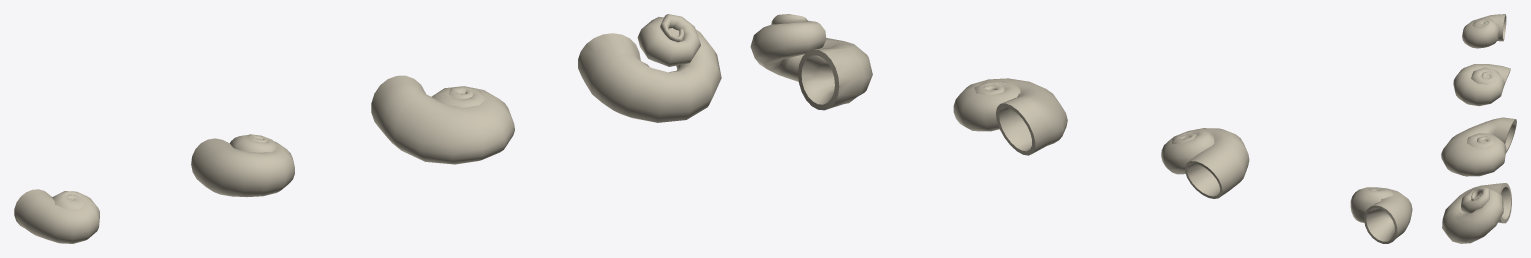
File: coral_shells_A.fbx
3 views of the same model, side by side, from view 1: azimuth 30°, elevation 25°; view 2: azimuth 150°, elevation 25°; view 3: azimuth 270°, elevation 25° (orthographic). The views are drawn at different scales.
Parts seen in each view (by area): view 1: coral_shells_A_A, coral_shells_A_B, coral_shells_A_C, coral_shells_A_D; view 2: coral_shells_A_A, coral_shells_A_B, coral_shells_A_C, coral_shells_A_D; view 3: coral_shells_A_B, coral_shells_A_A, coral_shells_A_C, coral_shells_A_D.
Boxes of the visible parts, bbox=[...] form: coral_shells_A_A: bbox=[578, 14, 721, 122]; coral_shells_A_B: bbox=[371, 75, 514, 164]; coral_shells_A_C: bbox=[191, 134, 294, 197]; coral_shells_A_D: bbox=[14, 189, 99, 243]; coral_shells_A_A: bbox=[750, 14, 872, 110]; coral_shells_A_B: bbox=[953, 78, 1067, 155]; coral_shells_A_C: bbox=[1161, 128, 1249, 198]; coral_shells_A_D: bbox=[1350, 187, 1412, 243]; coral_shells_A_B: bbox=[1441, 117, 1516, 176]; coral_shells_A_A: bbox=[1442, 183, 1511, 243]; coral_shells_A_C: bbox=[1453, 64, 1510, 106]; coral_shells_A_D: bbox=[1462, 14, 1506, 48].
Bounding box in the file's own units: 249 × 29.97 × 37.37.
